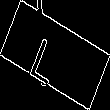L_NE: (36, 26, 74, 84)
